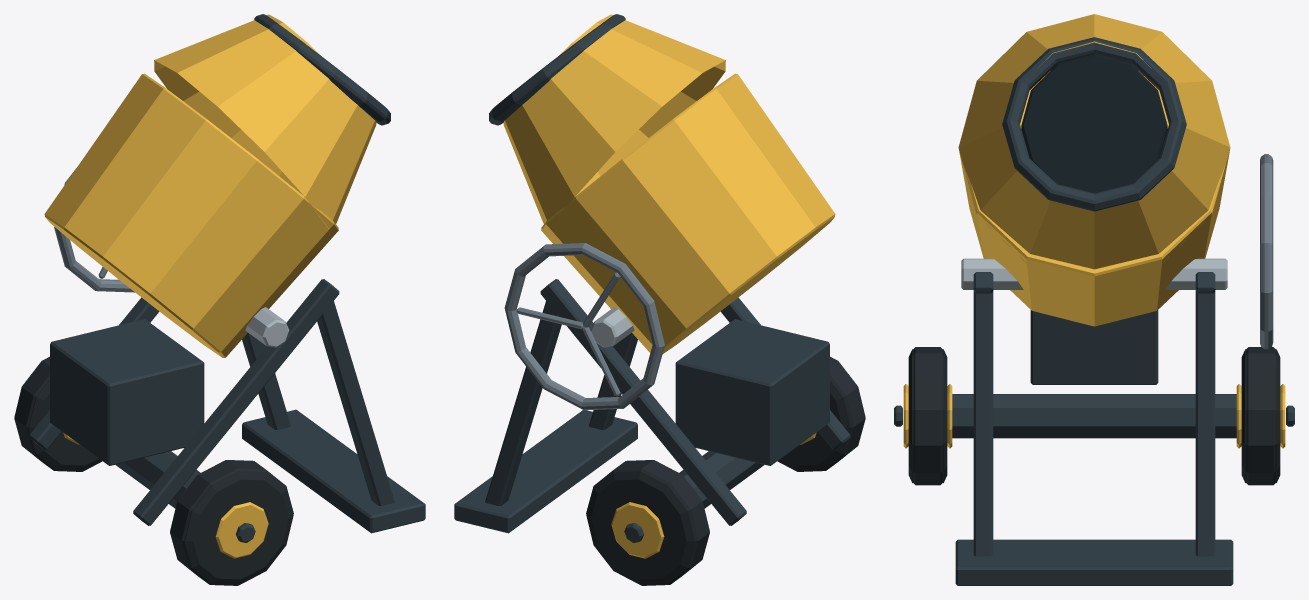
The model's file is b07_tilting_drum_concrete_mixer.glb.
The picture shows the model from 3 angles, left to right: view 1: azimuth 30°, elevation 25°; view 2: azimuth 150°, elevation 25°; view 3: azimuth 270°, elevation 25°; orthographic projection. The views are drawn at different scales.
Visible parts, largest first — view 1: b07_tilting_drum_concrete_mixer; view 2: b07_tilting_drum_concrete_mixer; view 3: b07_tilting_drum_concrete_mixer.
Part boxes in pixels (x1=…): b07_tilting_drum_concrete_mixer: x1=14, y1=14, x2=425, y2=585; b07_tilting_drum_concrete_mixer: x1=454, y1=14, x2=865, y2=585; b07_tilting_drum_concrete_mixer: x1=894, y1=14, x2=1294, y2=585.
Size of the model in its own units: 1.39 by 2 by 1.44.
